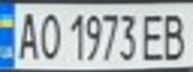1: (63, 9, 84, 61)
3: (118, 10, 142, 62)
7: (100, 10, 121, 62)
9: (81, 10, 103, 62)
A: (12, 7, 42, 61)
B: (157, 9, 193, 62)
E: (139, 10, 169, 62)
O: (36, 8, 63, 61)
